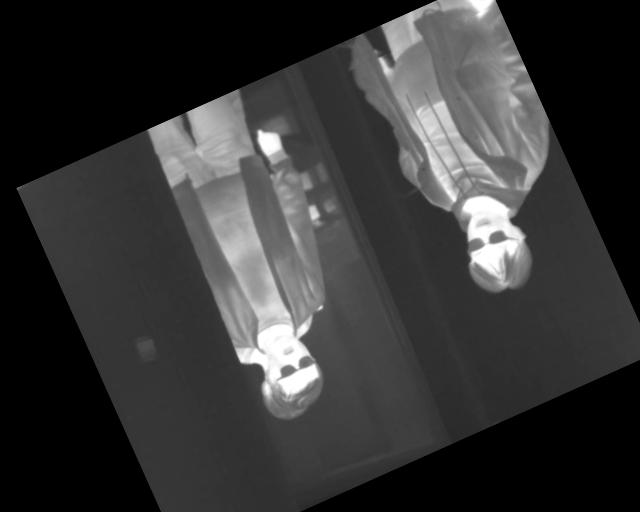face: (448, 195, 545, 305), (252, 325, 332, 418)
